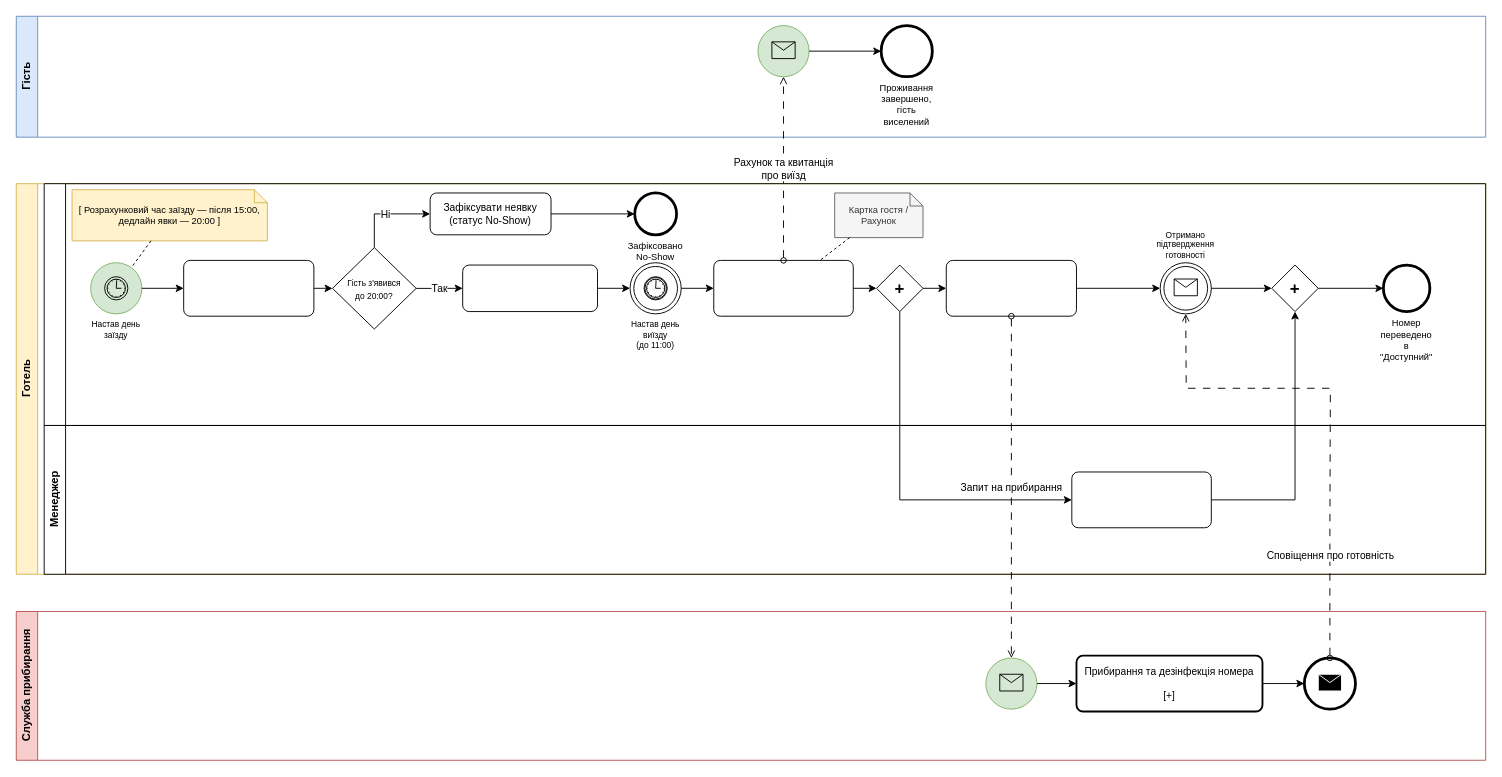
Image size: 1502x777. Some labels were removed from this diagram. The shapes that lost their labels are listed below. From the top down, each one's box as (x1, y1, x2, y2) in pixels, then its label:
(757, 25, 809, 77): Отримано рахунок та квитанцію
(183, 259, 314, 316): Знайти бронювання та перевірити документи
(462, 264, 598, 312): Видати ключ та встановити статус "Заселено"
(43, 183, 1486, 425): Адміністратор
(713, 259, 853, 316): Перевірити стан номера та платні послуги
(945, 259, 1076, 316): Передати запит на прибирання
(1071, 471, 1211, 528): Закрити рахунок і статус бронювання
(985, 657, 1037, 709): Отримано наряд на прибирання
(1302, 656, 1356, 710): Прибирання виконано
